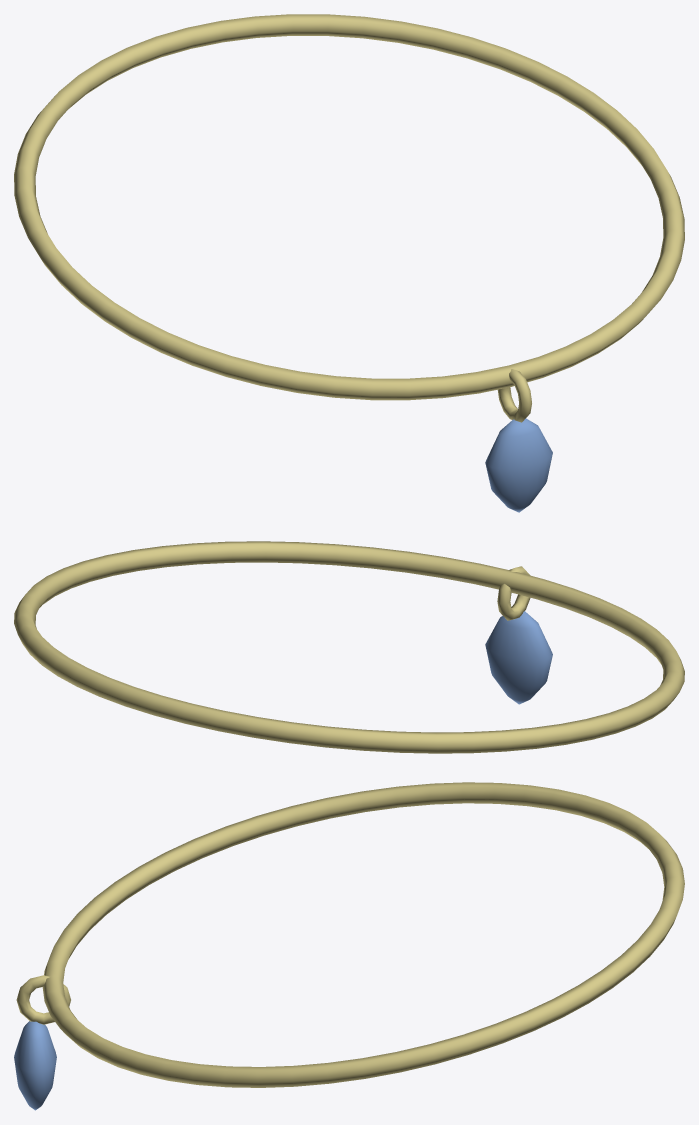
File: acc_necklace.glb
3 views of the same model, one above another, from view 1: azimuth 30°, elevation 25°; view 2: azimuth 150°, elevation 25°; view 3: azimuth 270°, elevation 25° (orthographic). The views are drawn at different scales.
Parts seen in each view (by area): view 1: acc_necklace; view 2: acc_necklace; view 3: acc_necklace.
Boxes of the visible parts, left/top/right/bottom form: acc_necklace: left=14, top=14, right=684, bottom=512; acc_necklace: left=14, top=541, right=684, bottom=753; acc_necklace: left=14, top=782, right=684, bottom=1110.
Bounding box in the file's own units: 0.155 × 0.0614 × 0.1594.
